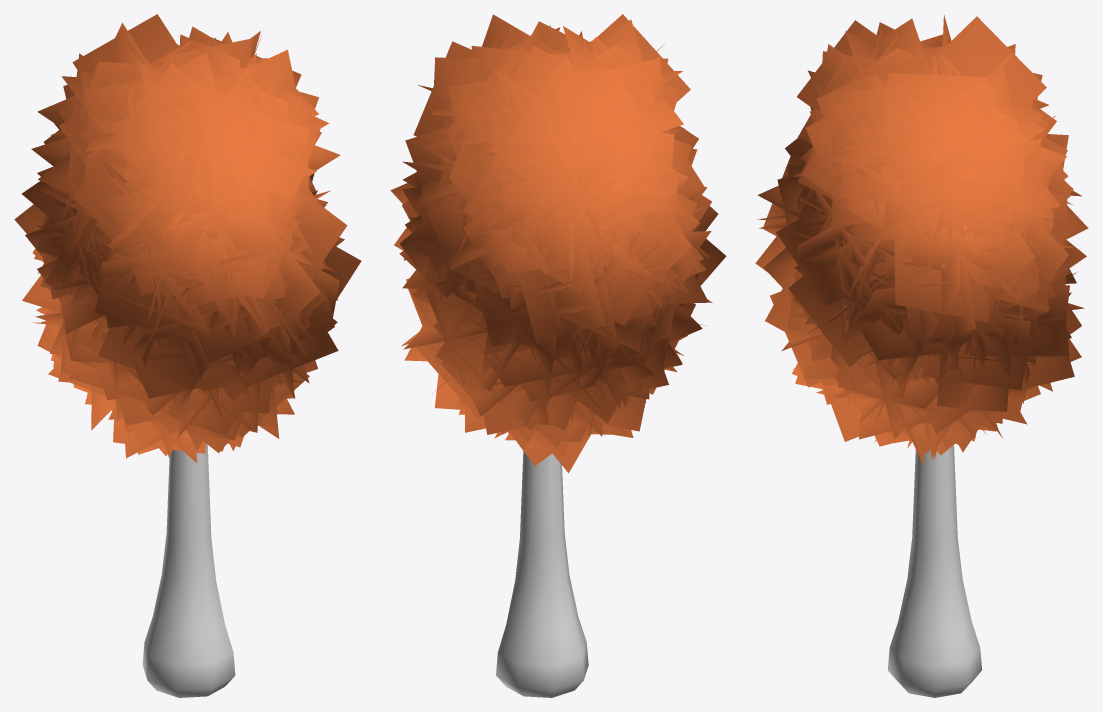
Rendered from SM_Tree_11.fbx.
3 views of the same model, side by side, from view 1: azimuth 30°, elevation 25°; view 2: azimuth 150°, elevation 25°; view 3: azimuth 270°, elevation 25° (orthographic).
Visible parts, largest first — view 1: SM_Tree_11_LOD0; view 2: SM_Tree_11_LOD0; view 3: SM_Tree_11_LOD0.
Boxes of the visible parts, x1=… form: SM_Tree_11_LOD0: x1=14, y1=14, x2=361, y2=697; SM_Tree_11_LOD0: x1=390, y1=14, x2=726, y2=697; SM_Tree_11_LOD0: x1=755, y1=15, x2=1088, y2=697.
Size of the model in its own units: 301 by 638 by 299.
